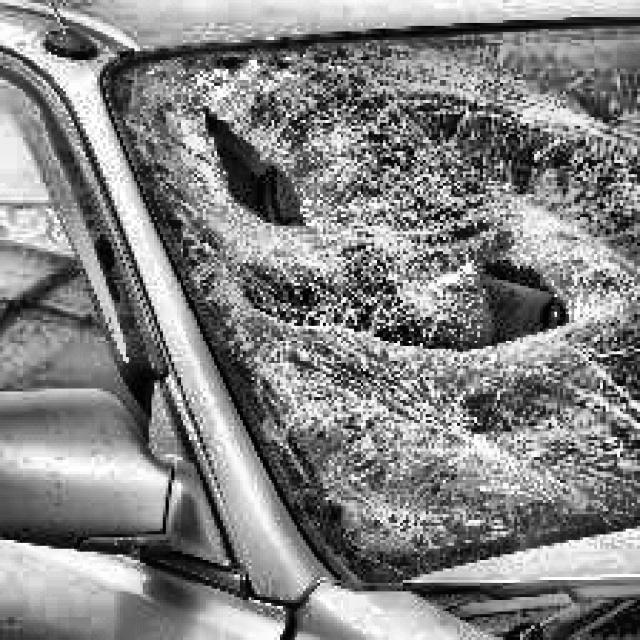glass_shatter: (127, 72, 592, 360)
